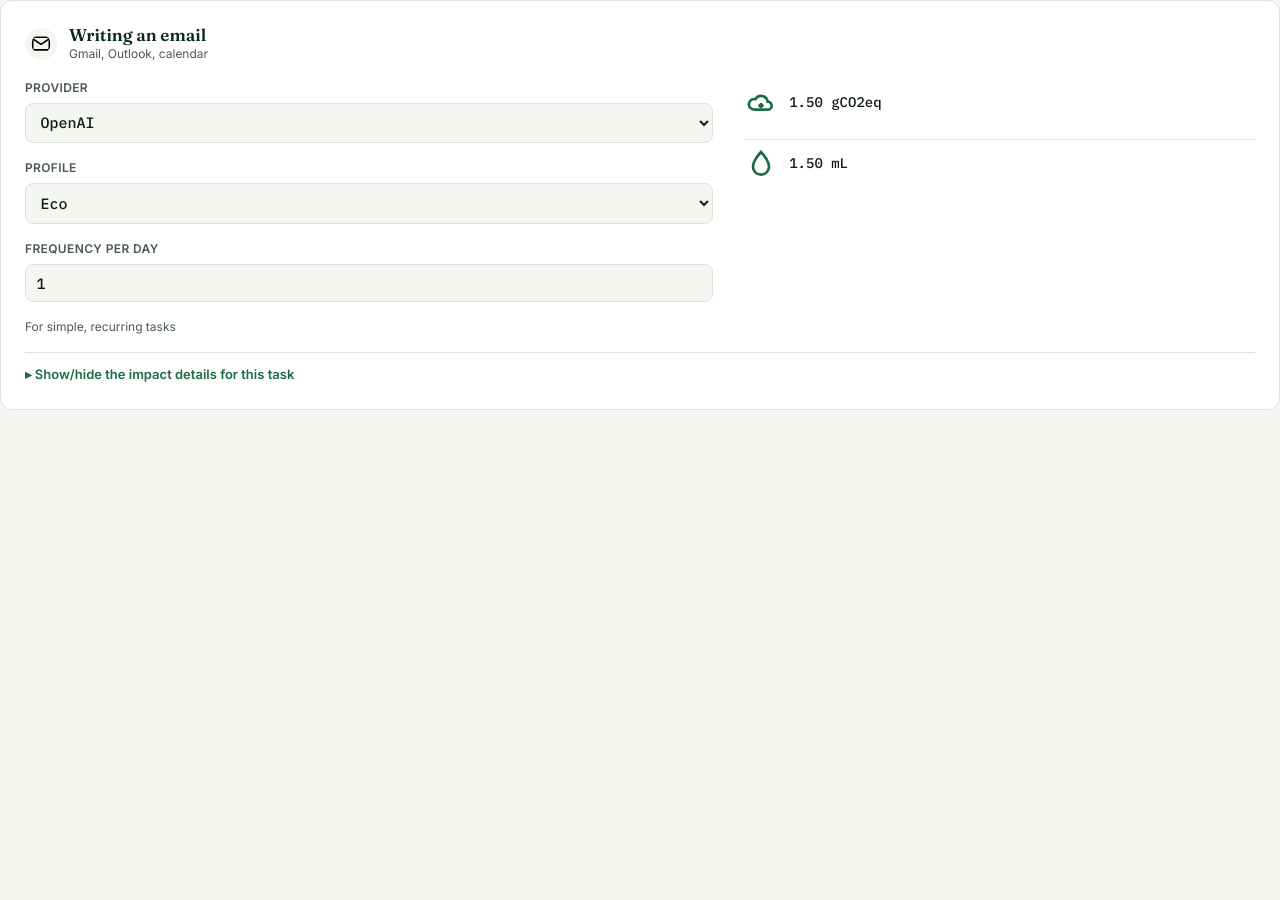
Test: UseCaseCard › shows large titled summary icons and smaller titled detail icons
The width and height of the screenshot is (1280, 900).
Click the heading "Show/hide the impact details for this task": click(165, 374) 35,366 -> 294,382
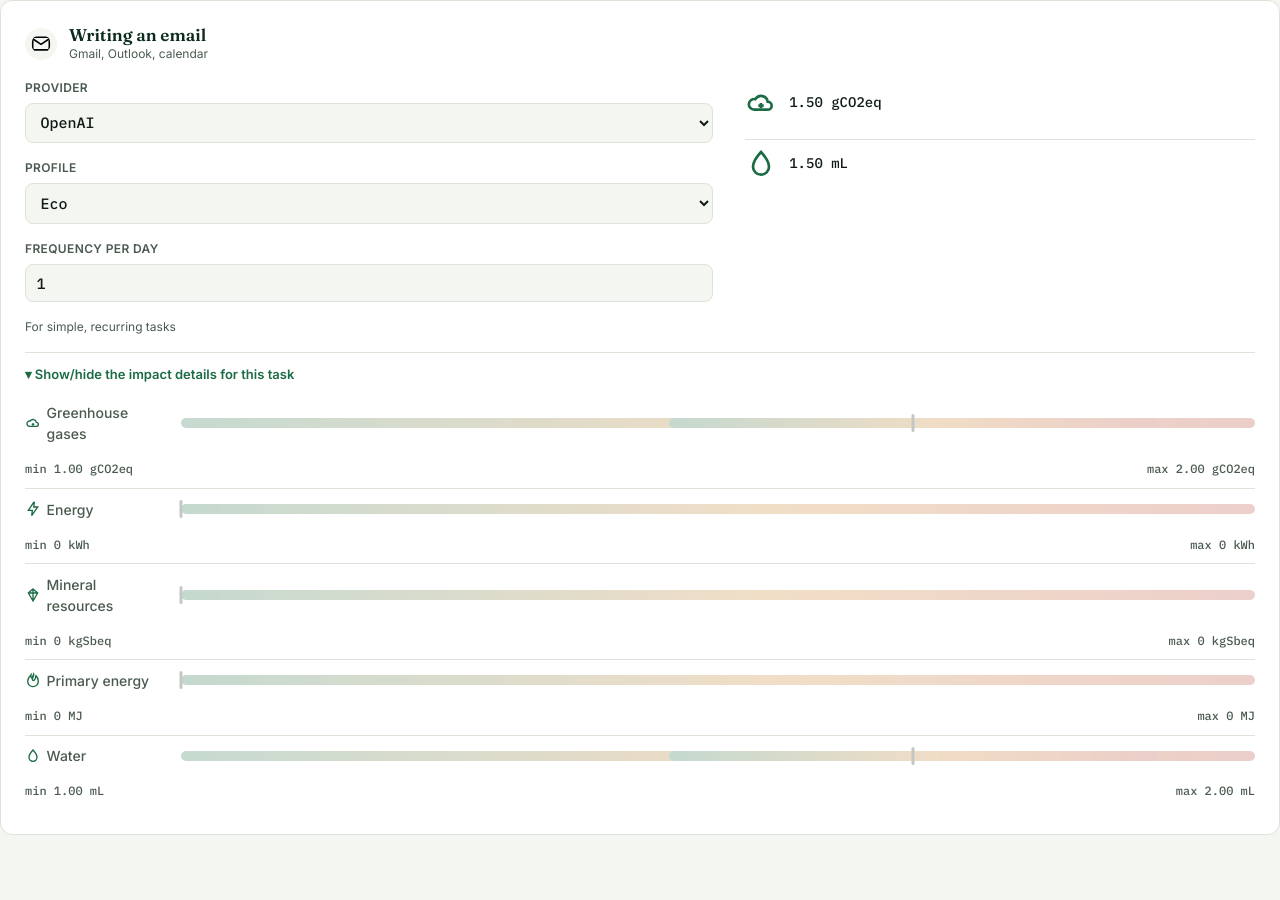
Expected: the number of icons with class "use-case-card__detail-icon" is 5, 25,415 -> 41,431; 25,501 -> 41,517; 25,587 -> 41,603; 25,672 -> 41,688; 25,748 -> 41,764
